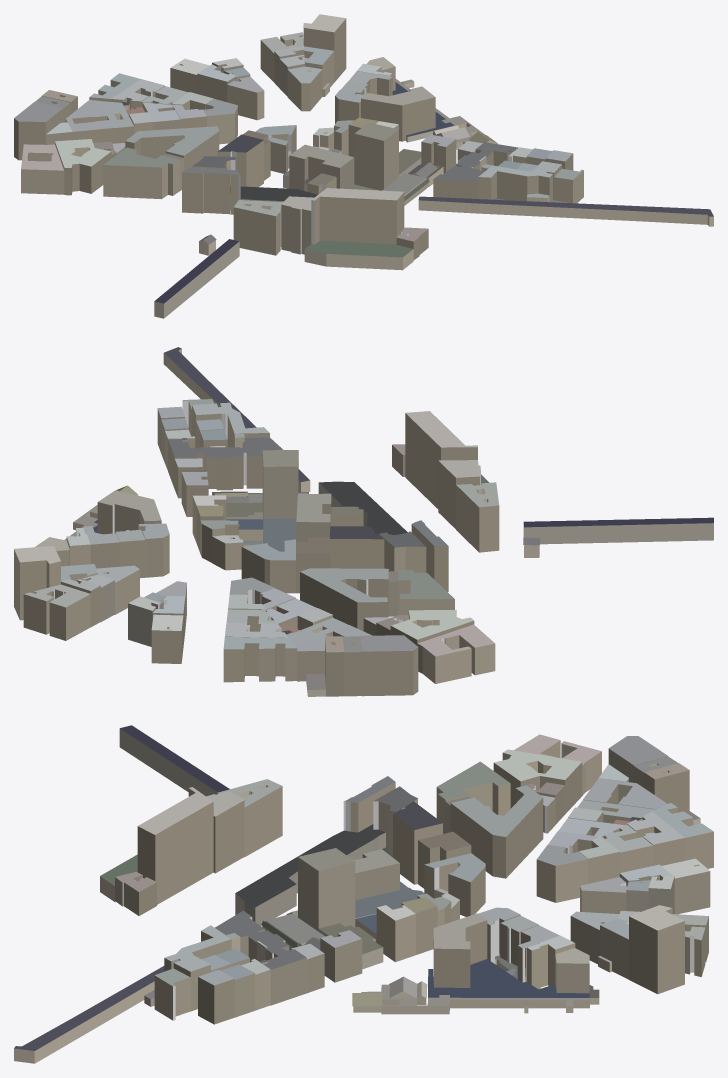
3 renders of one model, top to bottom at view 1: azimuth 30°, elevation 25°; view 2: azimuth 150°, elevation 25°; view 3: azimuth 270°, elevation 25°, orthographic. The views are drawn at different scales.
Visible parts, largest first — view 1: tuile; view 2: tuile; view 3: tuile.
Boxes of the visible parts, bbox=[...] form: tuile: bbox=[14, 14, 713, 318]; tuile: bbox=[14, 347, 713, 696]; tuile: bbox=[14, 725, 713, 1063].
Size of the model in its own units: 337 by 36.78 by 313.
